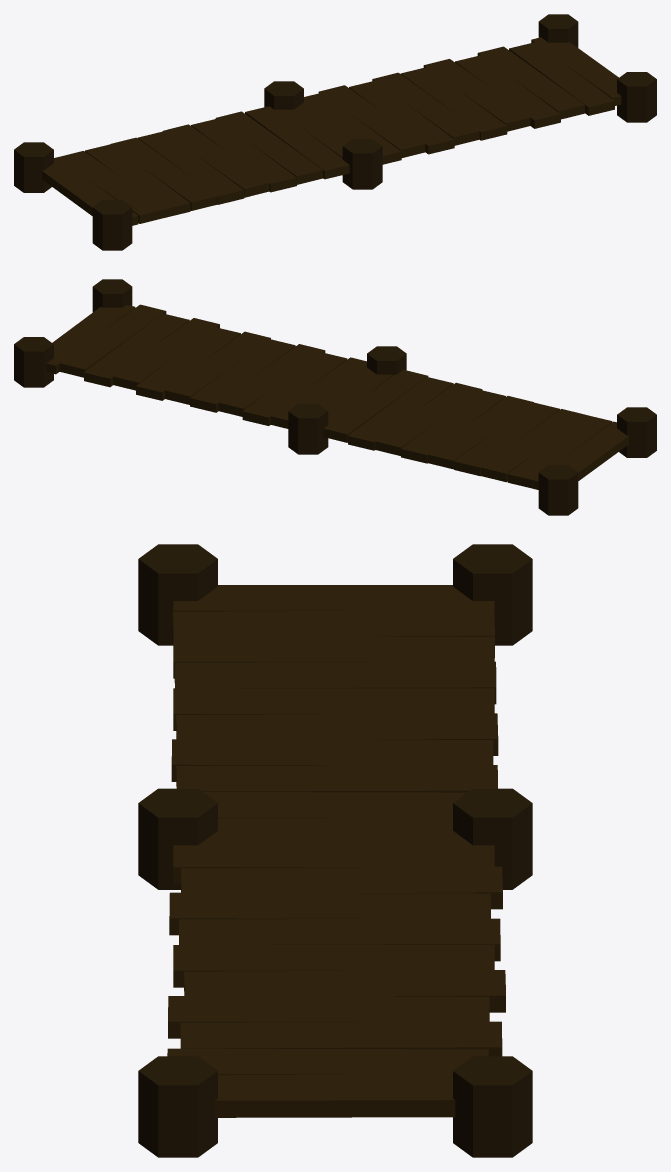
Rendered from abandonedDock.fbx.
3 views of the same model, one above another, from view 1: azimuth 30°, elevation 25°; view 2: azimuth 150°, elevation 25°; view 3: azimuth 270°, elevation 25° (orthographic). The views are drawn at different scales.
Parts seen in each view (by area): view 1: Dock; view 2: Dock; view 3: Dock.
Boxes of the visible parts, x1,y1,x2,y2 form: Dock: (14,14,656,250); Dock: (14,279,656,515); Dock: (138,544,532,1157).
Size of the model in its own units: 7811 by 486 by 2405.
